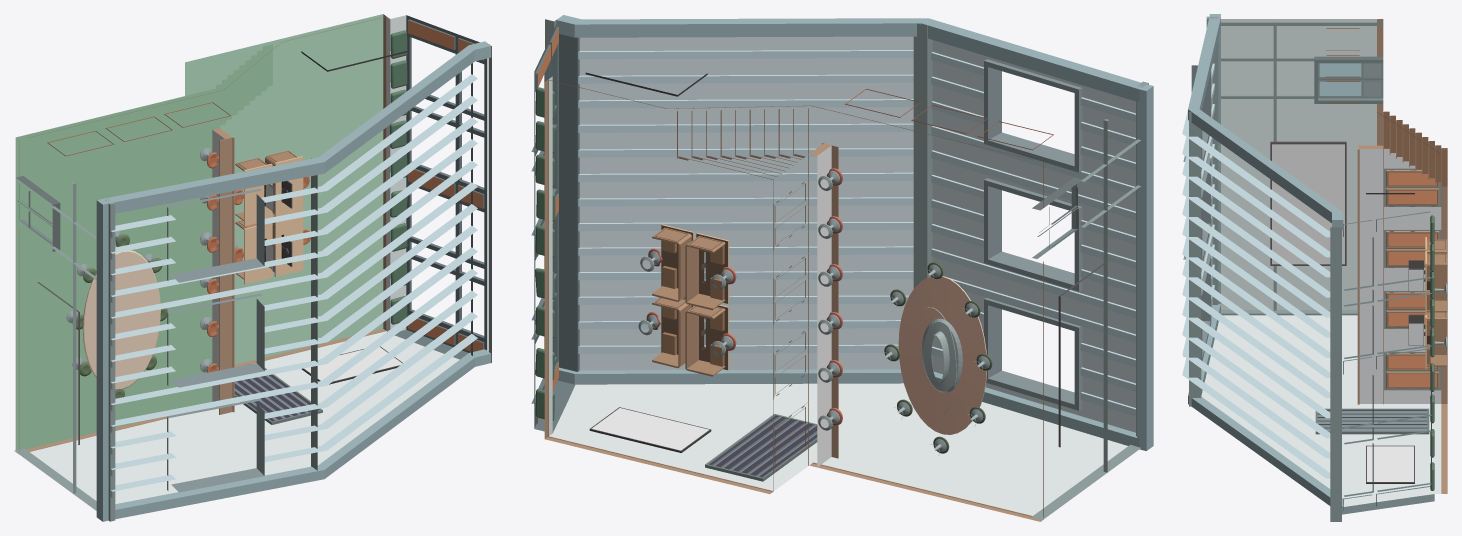
Rendered from Studio_IMU_B.glb.
3 views of the same model, side by side, from view 1: azimuth 30°, elevation 25°; view 2: azimuth 150°, elevation 25°; view 3: azimuth 270°, elevation 25° (orthographic). The views are drawn at different scales.
Parts seen in each view (by area): view 1: HM_Sol, Toit_Chevrons, Mur, Bords, Verriere, Toit, Toit_poutres, Table_reunion, Muret_Mezzanine, Poufs, Structure_facade, Fenetre (+7 smaller); view 2: Toit, Toit_Chevrons, Mur, Bords, Verriere, Table_reunion, Muret_Mezzanine, Toit_poutres, Fenetre, Structure_facade, Poufs, Bureau.001 (+8 smaller); view 3: Mur, Toit_Chevrons, Muret_Mezzanine, Bords, Toit_poutres, Placard, Ecran.001, Porte, Verriere, Fenetre, HM_Sol, Structure_facade (+6 smaller).
Boxes of the visible parts, bbox=[...] form: HM_Sol: bbox=[15, 14, 383, 449]; Toit_Chevrons: bbox=[110, 74, 477, 497]; Mur: bbox=[16, 14, 459, 510]; Bords: bbox=[96, 41, 491, 521]; Verriere: bbox=[386, 15, 487, 359]; Toit: bbox=[167, 188, 264, 492]; Toit_poutres: bbox=[104, 44, 491, 521]; Table_reunion: bbox=[82, 250, 160, 390]; Muret_Mezzanine: bbox=[212, 128, 234, 414]; Poufs: bbox=[390, 30, 407, 324]; Structure_facade: bbox=[14, 182, 96, 510]; Fenetre: bbox=[234, 368, 322, 424]; Toit: bbox=[579, 36, 1135, 432]; Toit_Chevrons: bbox=[578, 50, 1135, 416]; Mur: bbox=[544, 79, 1138, 521]; Bords: bbox=[556, 15, 1153, 450]; Verriere: bbox=[531, 24, 579, 435]; Table_reunion: bbox=[898, 276, 986, 434]; Muret_Mezzanine: bbox=[773, 142, 838, 490]; Toit_poutres: bbox=[545, 19, 1148, 436]; Fenetre: bbox=[705, 414, 817, 481]; Structure_facade: bbox=[1031, 119, 1140, 520]; Poufs: bbox=[535, 87, 555, 420]; Bureau.001: bbox=[685, 233, 736, 310]; Mur: bbox=[1201, 19, 1447, 506]; Toit_Chevrons: bbox=[1182, 63, 1330, 478]; Muret_Mezzanine: bbox=[1357, 143, 1447, 404]; Bords: bbox=[1188, 14, 1343, 514]; Toit_poutres: bbox=[1189, 16, 1341, 521]; Placard: bbox=[1384, 168, 1441, 390]; Ecran.001: bbox=[1270, 141, 1346, 265]; Porte: bbox=[1314, 56, 1383, 103]; Verriere: bbox=[1343, 211, 1434, 514]; Fenetre: bbox=[1315, 408, 1429, 434]; HM_Sol: bbox=[1383, 111, 1447, 188]; Structure_facade: bbox=[1220, 22, 1383, 315].
Size of the model in its own units: 19.45 by 12.78 by 10.35.
Materials: 1 (1 with a texture image).
